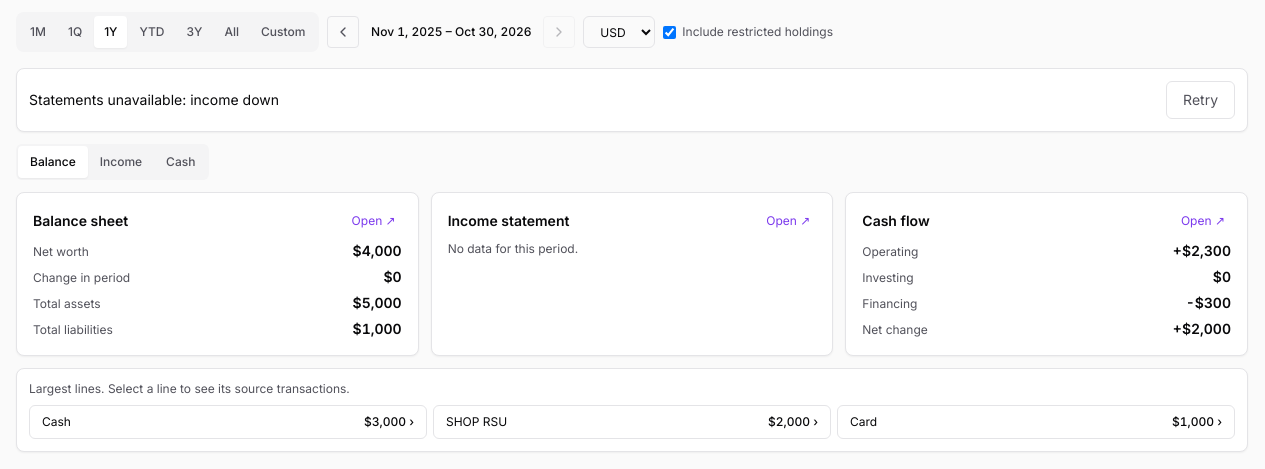
HomePage › AC16.12.2 renders error fallback and retry action on failure
Check: the text "Statements unavailable: income down" is shown, box left=29, top=90, right=279, bottom=110
Check: the text "$4,000" is shown, box left=352, top=241, right=402, bottom=261
The other cards keep their own data.
Click the button "Retry": {"x": 1201, "y": 100} left=1166, top=81, right=1235, bottom=119
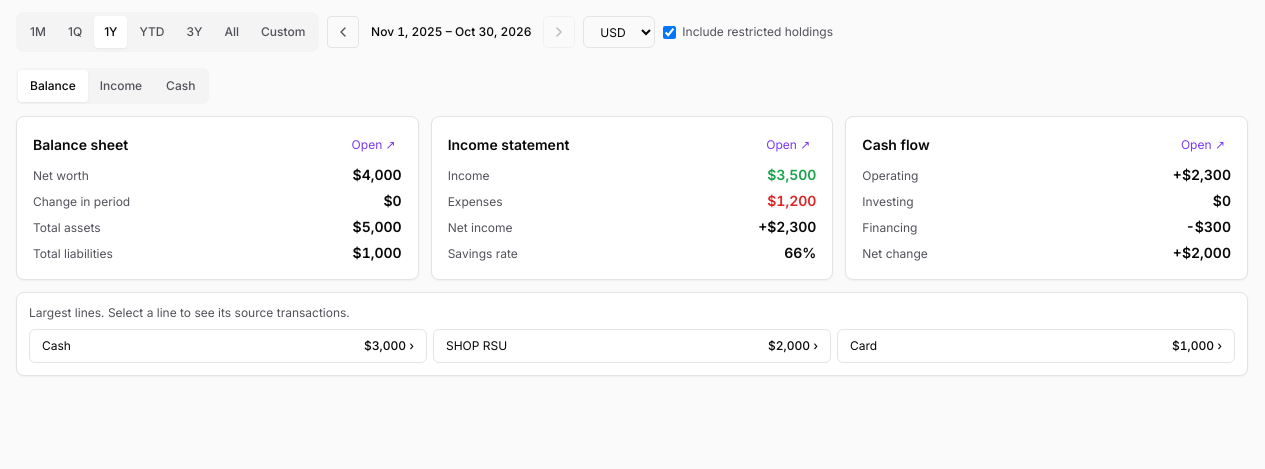
Check: the text "Statements unavailable" is gone
Check: the text "+$2,300" in the row of "Net income" is shown, box left=758, top=218, right=816, bottom=235
